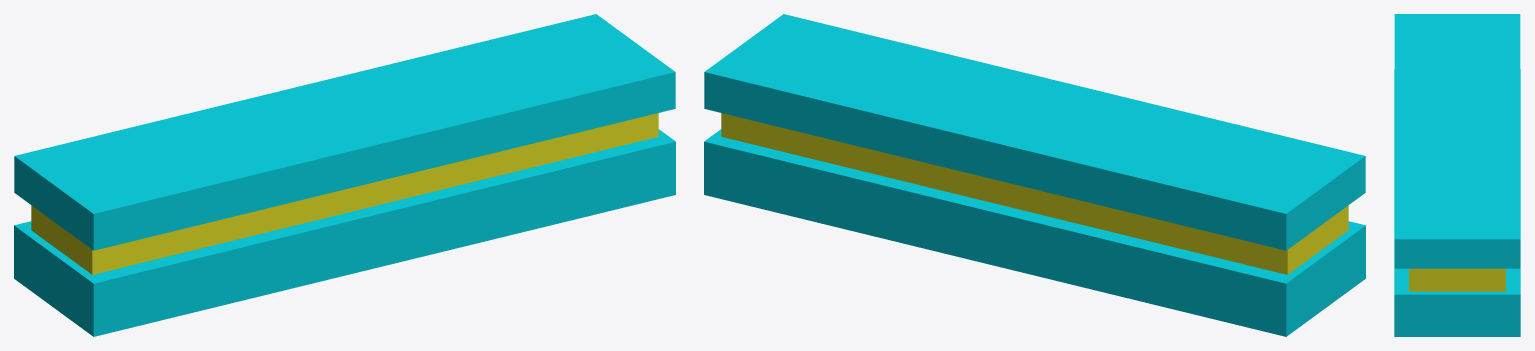
Rendered from barra_centro_mall.fbx.
3 renders of one model, left to right at view 1: azimuth 30°, elevation 25°; view 2: azimuth 150°, elevation 25°; view 3: azimuth 270°, elevation 25°, orthographic. The views are drawn at different scales.
Visible parts, largest first — view 1: Puerta_Arco.005; view 2: Puerta_Arco.005; view 3: Puerta_Arco.005.
Boxes of the visible parts, bbox=[...] form: Puerta_Arco.005: bbox=[14, 14, 675, 336]; Puerta_Arco.005: bbox=[704, 14, 1365, 336]; Puerta_Arco.005: bbox=[1394, 14, 1520, 336].
Size of the model in its own units: 400 by 80.61 by 94.81.
